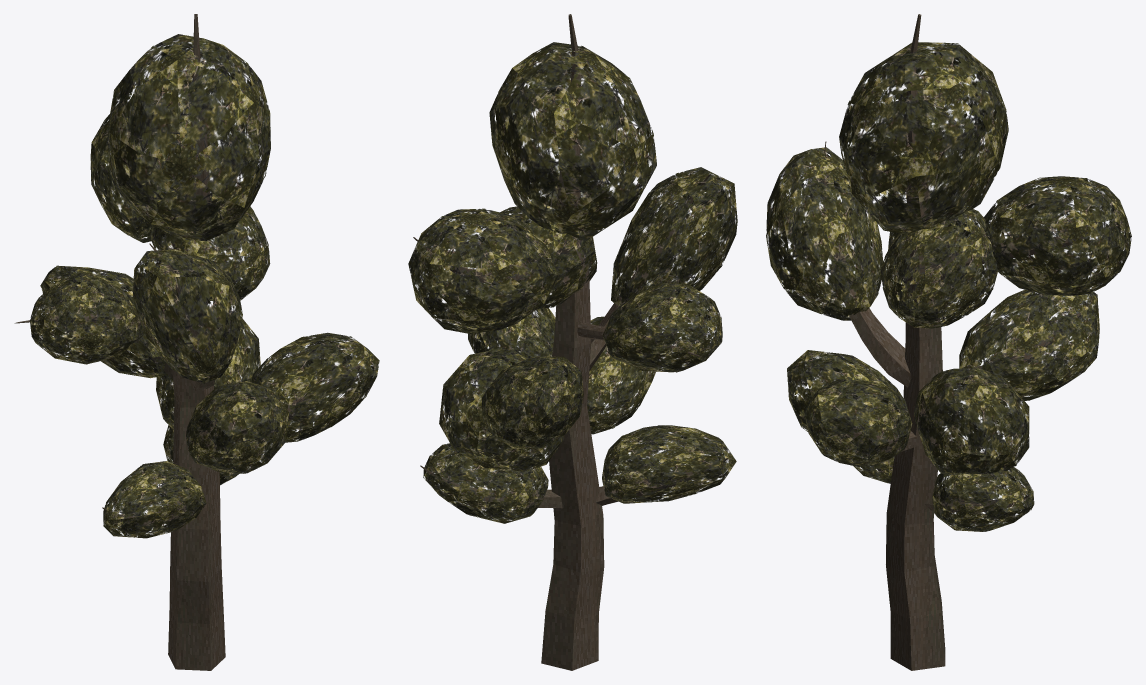
The model's file is tree2.glb.
3 views of the same model, side by side, from view 1: azimuth 30°, elevation 25°; view 2: azimuth 150°, elevation 25°; view 3: azimuth 270°, elevation 25° (orthographic).
Visible parts, largest first — view 1: Cylinder; view 2: Cylinder; view 3: Cylinder.
Boxes of the visible parts, x1,y1,x2,y2 form: Cylinder: (14,14,379,670); Cylinder: (408,14,737,670); Cylinder: (766,14,1131,670).
Size of the model in its own units: 5.64 by 11.94 by 6.15.
Materials: 2 (2 with a texture image).
